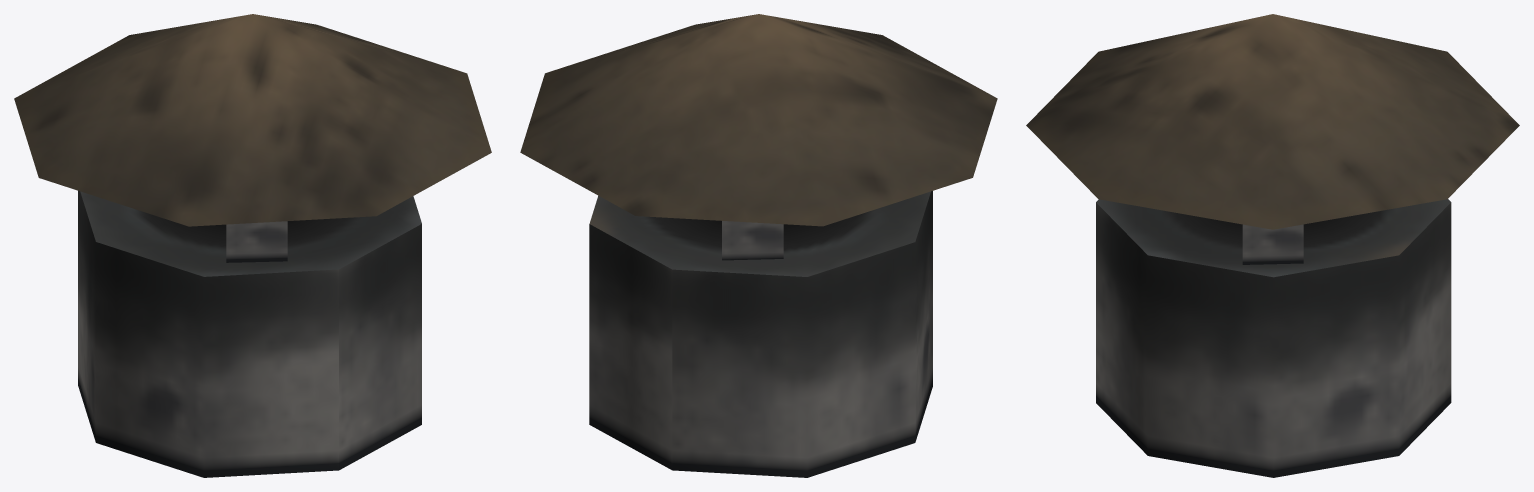
The model's file is chimney_roof08.fbx.
3 renders of one model, left to right at view 1: azimuth 30°, elevation 25°; view 2: azimuth 150°, elevation 25°; view 3: azimuth 270°, elevation 25°, orthographic.
Visible parts, largest first — view 1: chimney_roof08; view 2: chimney_roof08; view 3: chimney_roof08.
Boxes of the visible parts, x1,y1,x2,y2 form: chimney_roof08: (14,14,491,477); chimney_roof08: (520,14,997,477); chimney_roof08: (1026,14,1519,477).
Size of the model in its own units: 80.1 by 69.83 by 80.1.
